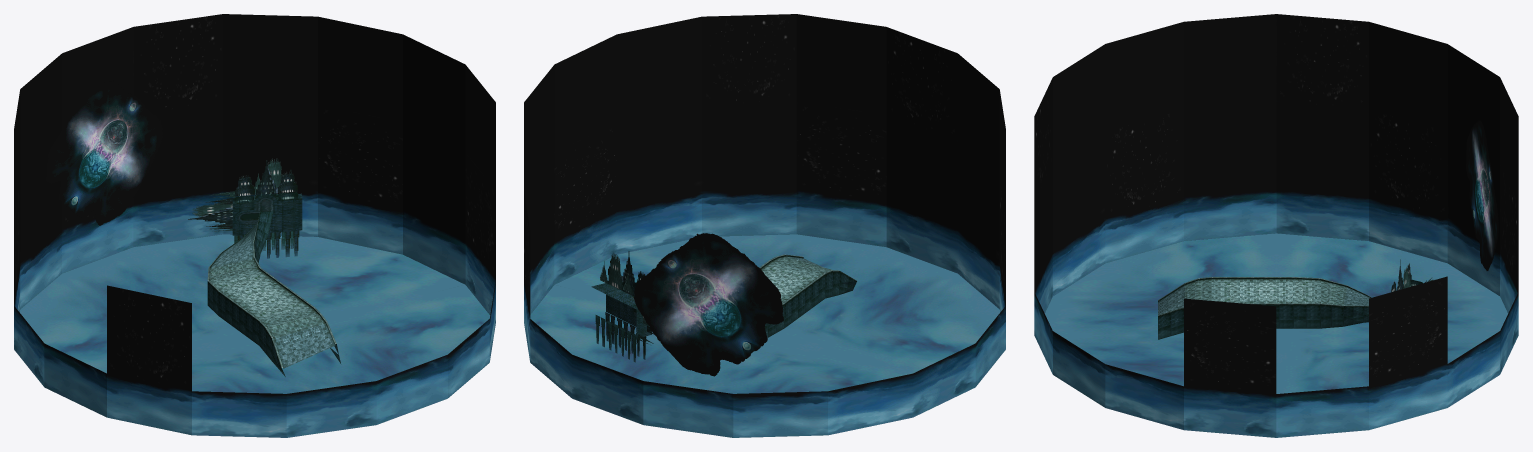
Rendered from MemoriaWorldFusion.glb.
3 renders of one model, left to right at view 1: azimuth 30°, elevation 25°; view 2: azimuth 150°, elevation 25°; view 3: azimuth 270°, elevation 25°, orthographic.
Parts seen in each view (by area): view 1: Object_8, Object_9, Object_6.002, Object_7, Object_3, Object_6.001, Object_4, Object_2, Object_1, Object_6.003, Object_6.004, Object_5; view 2: Object_8, Object_9, Object_6.002, Object_6.001, Object_6.003, Object_7, Object_4, Object_2, Object_6.004, Object_1; view 3: Object_8, Object_9, Object_6.002, Object_7, Object_4, Object_3, Object_6, Object_2.
Boxes of the visible parts, left/top/right/bottom form: Object_8: left=14, top=14, right=495, bottom=437; Object_9: left=19, top=273, right=385, bottom=393; Object_6.002: left=45, top=80, right=162, bottom=225; Object_7: left=255, top=241, right=336, bottom=372; Object_3: left=188, top=160, right=297, bottom=281; Object_6.001: left=232, top=192, right=302, bottom=235; Object_4: left=211, top=270, right=303, bottom=321; Object_2: left=207, top=213, right=319, bottom=345; Object_1: left=207, top=211, right=314, bottom=340; Object_6.003: left=234, top=230, right=299, bottom=259; Object_6.004: left=192, top=158, right=294, bottom=216; Object_5: left=210, top=269, right=313, bottom=321; Object_8: left=524, top=14, right=1005, bottom=437; Object_9: left=634, top=234, right=1000, bottom=393; Object_6.002: left=634, top=233, right=783, bottom=376; Object_6.001: left=591, top=281, right=651, bottom=338; Object_6.003: left=595, top=312, right=646, bottom=362; Object_7: left=771, top=254, right=856, bottom=298; Object_4: left=762, top=265, right=820, bottom=302; Object_2: left=759, top=257, right=827, bottom=337; Object_6.004: left=600, top=253, right=648, bottom=325; Object_1: left=763, top=260, right=827, bottom=337; Object_8: left=1034, top=14, right=1518, bottom=437; Object_9: left=1045, top=233, right=1499, bottom=390; Object_6.002: left=1466, top=120, right=1498, bottom=270; Object_7: left=1158, top=277, right=1368, bottom=331; Object_4: left=1212, top=280, right=1320, bottom=303; Object_3: left=1320, top=259, right=1426, bottom=306; Object_6: left=1158, top=279, right=1364, bottom=339; Object_2: left=1206, top=277, right=1368, bottom=316.
Bounding box in the file's own units: 250 × 125 × 250.
Materials: 12 (12 with a texture image).
